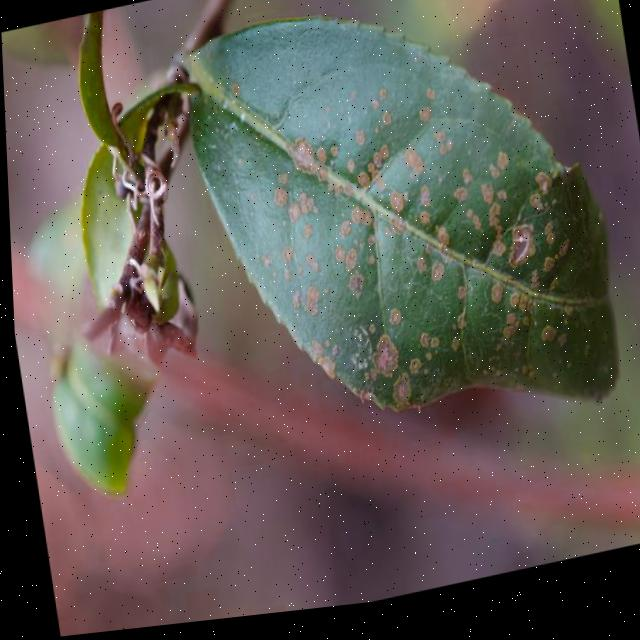Tea algae leaf spot: (223, 81, 624, 475)
